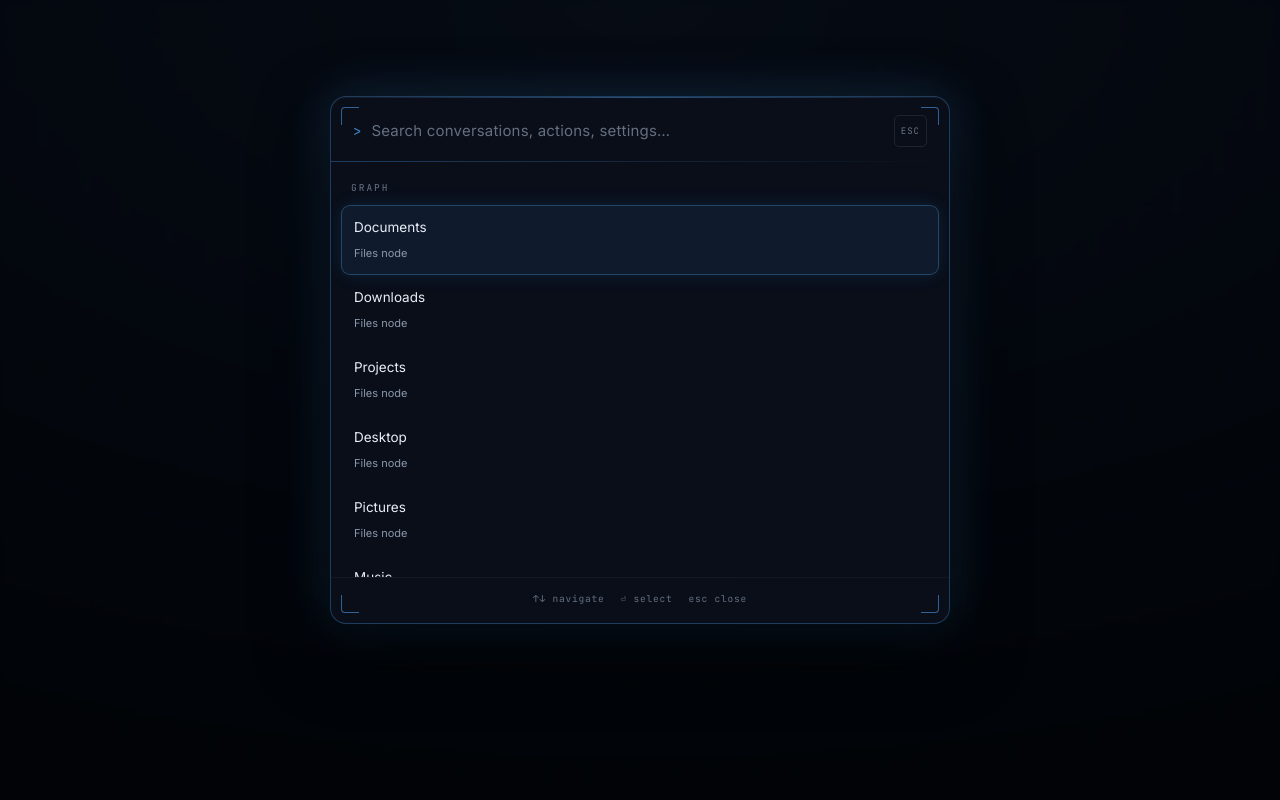
Test: CommandPalette › matches non-contiguous subsequences
Note: "rsown" is a subsequence of "Rust ownership notes"
In the field named "Command palette search": point(628, 131) [371, 119, 884, 143], type "rsown"
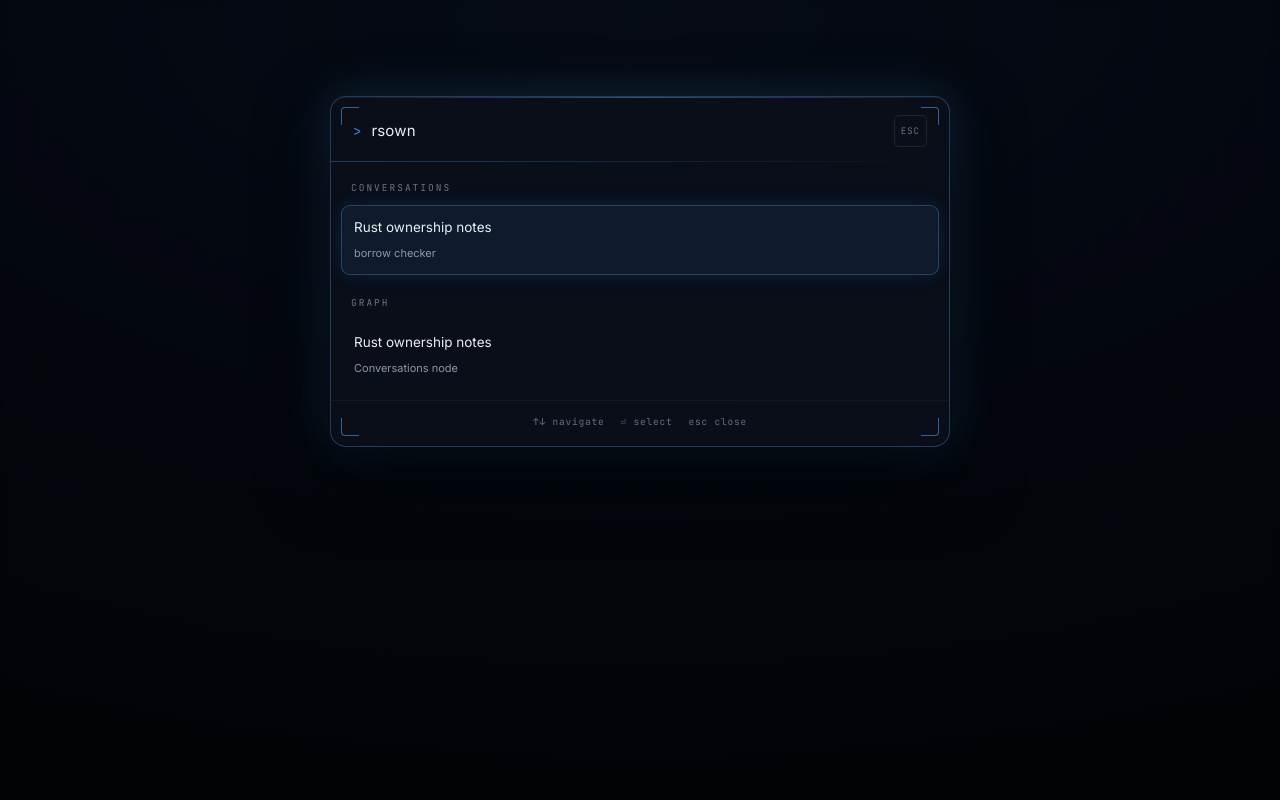
Result: the 1st text "Rust ownership notes" is shown at [354, 215, 492, 239]
